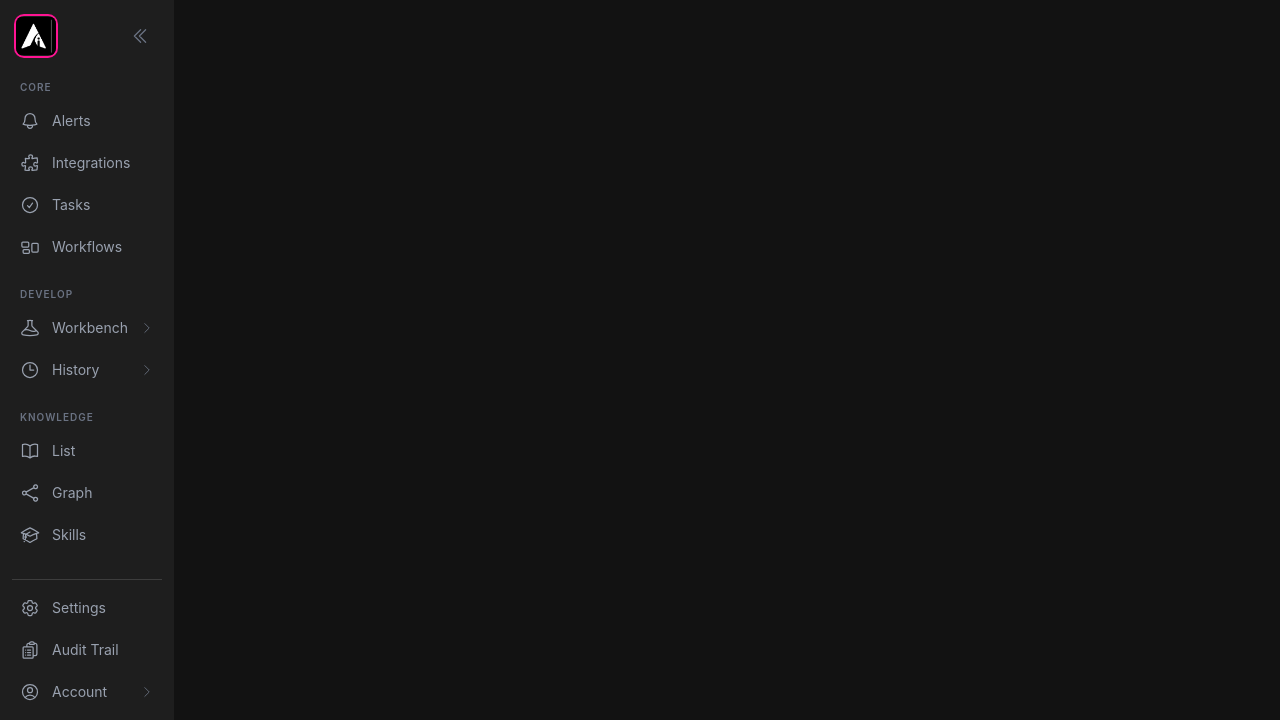
Sidebar › submenu flyouts › opens Workbench flyout on click
The image size is (1280, 720).
Click the link "Workbench": (87, 328) [20,318,154,338]
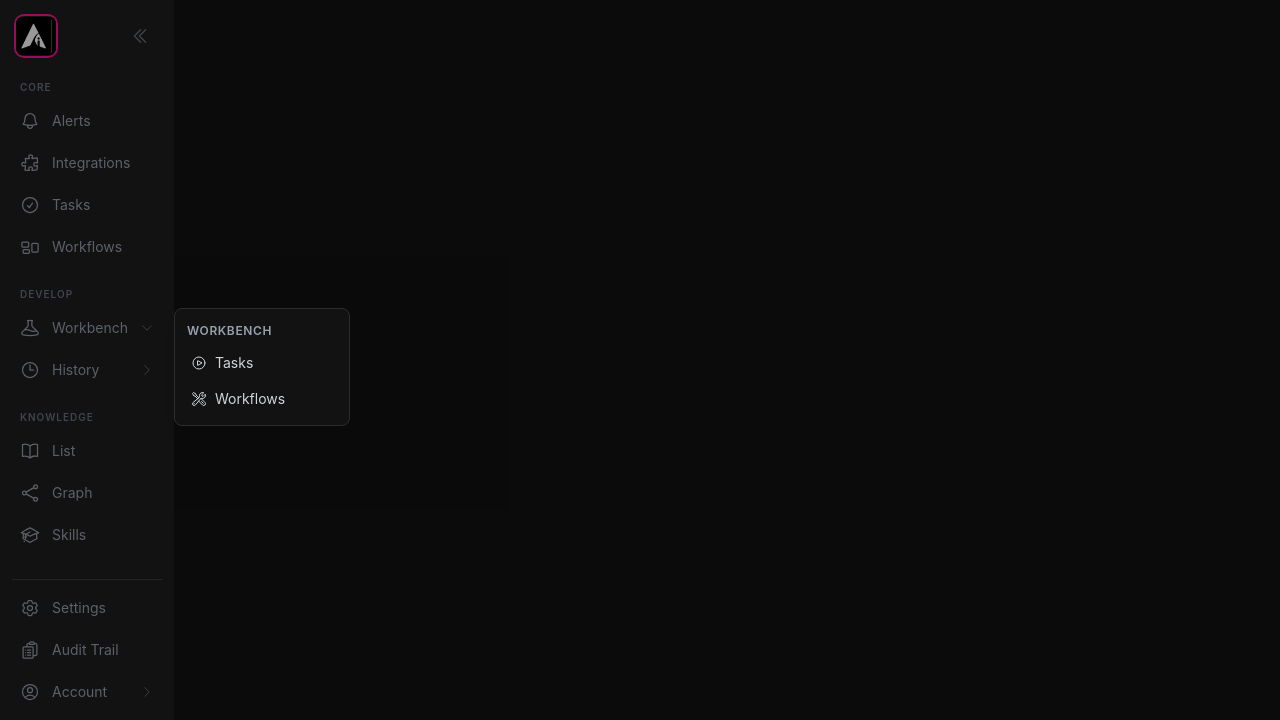
Now the menu is shown, box [174,308,350,426]
Now the menu item "Tasks" is shown, box [191,354,253,371]
Now the menu item "Workflows" is shown, box [191,390,285,407]
